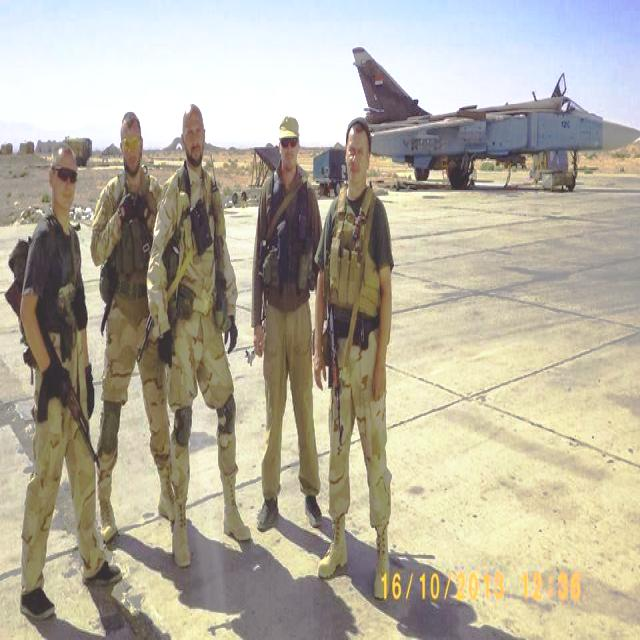Aircraft: (351, 36, 640, 195)
